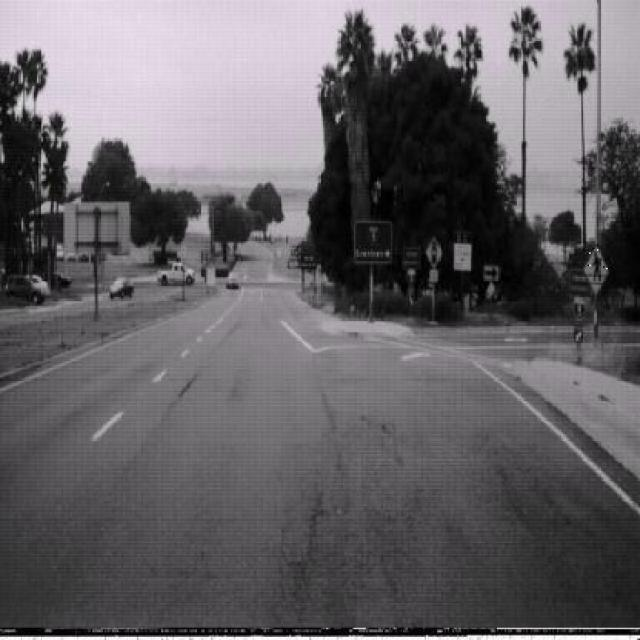pedestrianCrossing: (583, 244, 609, 296)
signalAhead: (424, 234, 442, 269)
